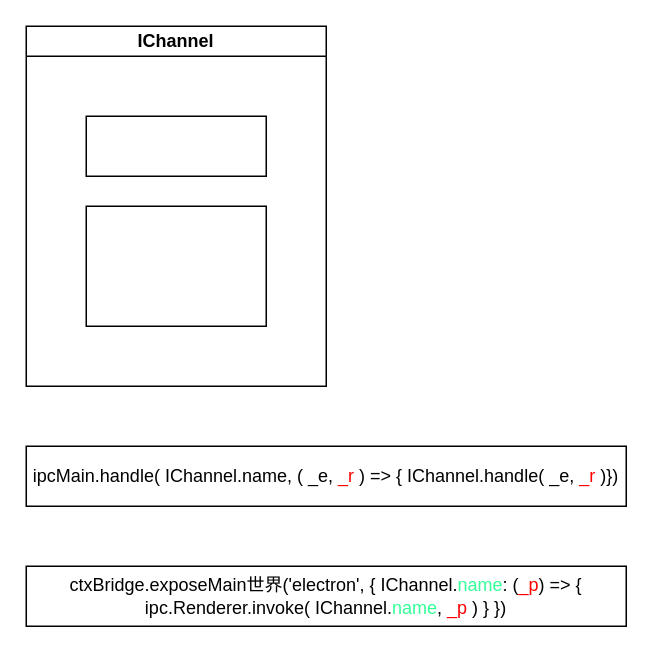
Image size: 653x653. Some labels were removed from this diagram. Here are the shapes that lost their labels. From the top down, the centre of each, then its label:
At (175,145): "name :string".
At (175,265): "(event:ipcMainEvent, args :any):any => {return any}".
